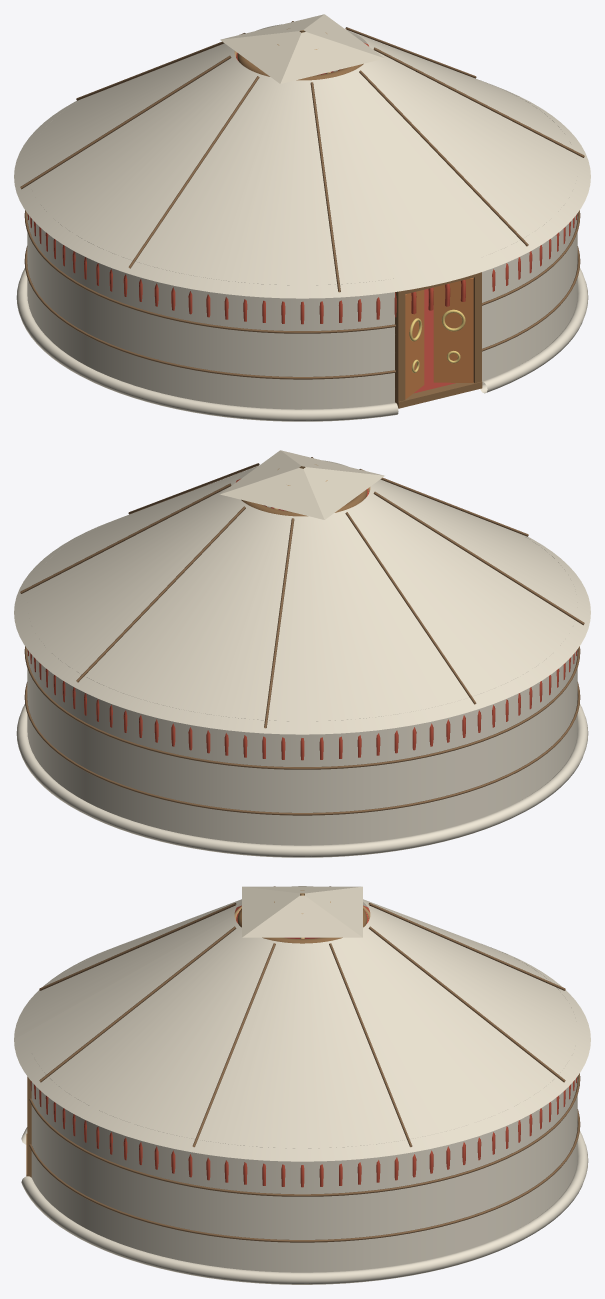
File: kiiz_uy_model.glb
3 renders of one model, top to bottom at view 1: azimuth 30°, elevation 25°; view 2: azimuth 150°, elevation 25°; view 3: azimuth 270°, elevation 25°, orthographic.
Visible parts, largest first — view 1: uzik_roof, tuyrlyq_wall, tuyrlyq_roll, tundik_cap, esik_panel_R, tuyrlyq_rope_low, tuyrlyq_rope_high, esik_panel_L, esik_post_L, interior_carpet, esik_post_R, esik_sill (+6 smaller); view 2: uzik_roof, tuyrlyq_wall, tuyrlyq_roll, tundik_cap, tuyrlyq_rope_low, tuyrlyq_rope_high, uzik_rope_1, uzik_rope_5, uzik_rope_4, uzik_rope_3, uzik_rope_2, shanyraq_ring; view 3: uzik_roof, tuyrlyq_wall, tuyrlyq_roll, tundik_cap, tuyrlyq_rope_low, tuyrlyq_rope_high, uzik_rope_4, uzik_rope_7, uzik_rope_5, uzik_rope_6, uzik_rope_0, uzik_rope_3.
Part boxes in pixels (left/top/right/bottom): uzik_roof: left=14, top=24, right=590, bottom=298; tuyrlyq_wall: left=27, top=70, right=577, bottom=409; tuyrlyq_roll: left=16, top=268, right=588, bottom=421; tundik_cap: left=220, top=14, right=384, bottom=83; esik_panel_R: left=433, top=277, right=473, bottom=382; tuyrlyq_rope_low: left=24, top=246, right=580, bottom=379; tuyrlyq_rope_high: left=24, top=210, right=580, bottom=333; esik_panel_L: left=405, top=290, right=424, bottom=399; esik_post_L: left=395, top=290, right=405, bottom=407; interior_carpet: left=414, top=287, right=455, bottom=393; esik_post_R: left=473, top=272, right=481, bottom=383; esik_sill: left=397, top=381, right=482, bottom=408; uzik_roof: left=14, top=460, right=590, bottom=734; tuyrlyq_wall: left=27, top=506, right=577, bottom=845; tuyrlyq_roll: left=16, top=704, right=588, bottom=857; tundik_cap: left=220, top=450, right=384, bottom=519; tuyrlyq_rope_low: left=24, top=682, right=580, bottom=815; tuyrlyq_rope_high: left=24, top=646, right=580, bottom=769; uzik_rope_1: left=373, top=491, right=584, bottom=625; uzik_rope_5: left=20, top=483, right=231, bottom=593; uzik_rope_4: left=76, top=506, right=245, bottom=682; uzik_rope_3: left=264, top=518, right=294, bottom=728; uzik_rope_2: left=345, top=512, right=476, bottom=704; shanyraq_ring: left=241, top=489, right=367, bottom=516; uzik_roof: left=14, top=886, right=590, bottom=1161; tuyrlyq_wall: left=31, top=945, right=577, bottom=1272; tuyrlyq_roll: left=21, top=1127, right=588, bottom=1284; tundik_cap: left=242, top=886, right=362, bottom=937; tuyrlyq_rope_low: left=29, top=1109, right=580, bottom=1242; tuyrlyq_rope_high: left=29, top=1073, right=580, bottom=1196; uzik_rope_4: left=368, top=926, right=565, bottom=1082; uzik_rope_7: left=39, top=926, right=236, bottom=1082; uzik_rope_5: left=329, top=943, right=412, bottom=1147; uzik_rope_6: left=192, top=943, right=275, bottom=1147; uzik_rope_0: left=39, top=903, right=236, bottom=990; uzik_rope_3: left=368, top=903, right=565, bottom=990.
Bounding box in the file's own units: 6.51 × 3.38 × 6.51.
